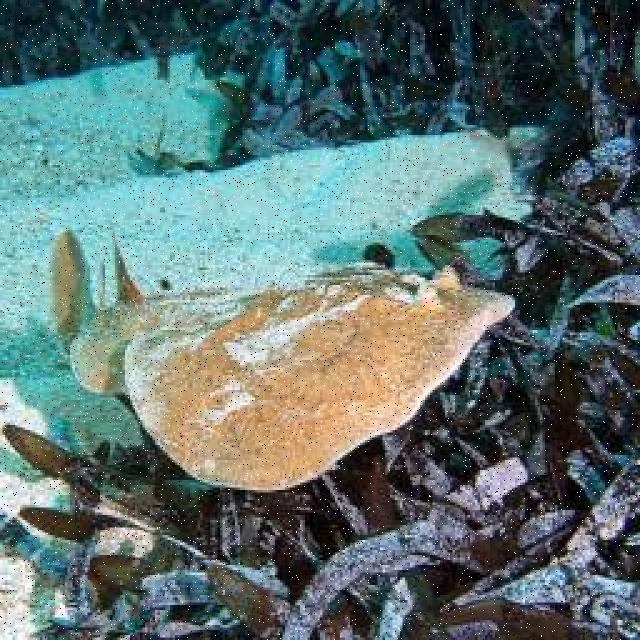aquatic plants: (0, 0, 637, 638)
reefs: (51, 225, 517, 492)
